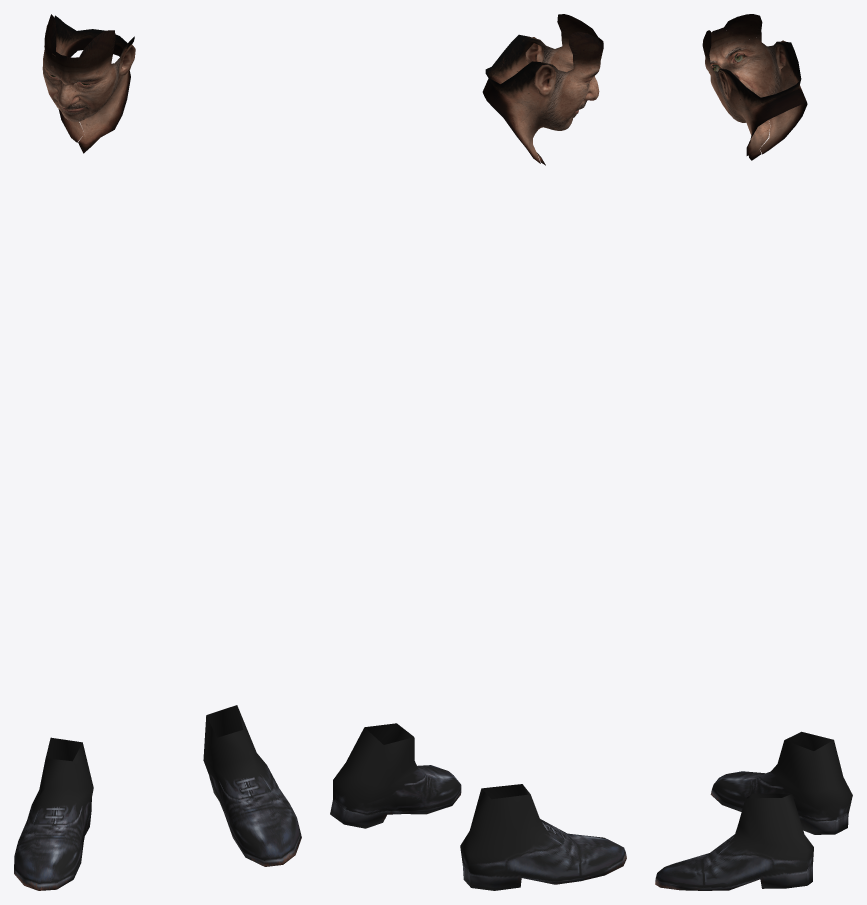
File: Doug_HEAD.obj
The picture shows the model from 3 angles, left to right: view 1: azimuth 30°, elevation 25°; view 2: azimuth 150°, elevation 25°; view 3: azimuth 270°, elevation 25°; orthographic projection. The views are drawn at different scales.
Parts seen in each view (by area): view 1: Doug_HEAD; view 2: Doug_HEAD; view 3: Doug_HEAD.
Part boxes in pixels (x1,y1,x2,y2): Doug_HEAD: (14,14,301,890); Doug_HEAD: (330,14,626,890); Doug_HEAD: (655,14,852,890).
Size of the model in its own units: 6.1 by 18.58 by 4.2.
